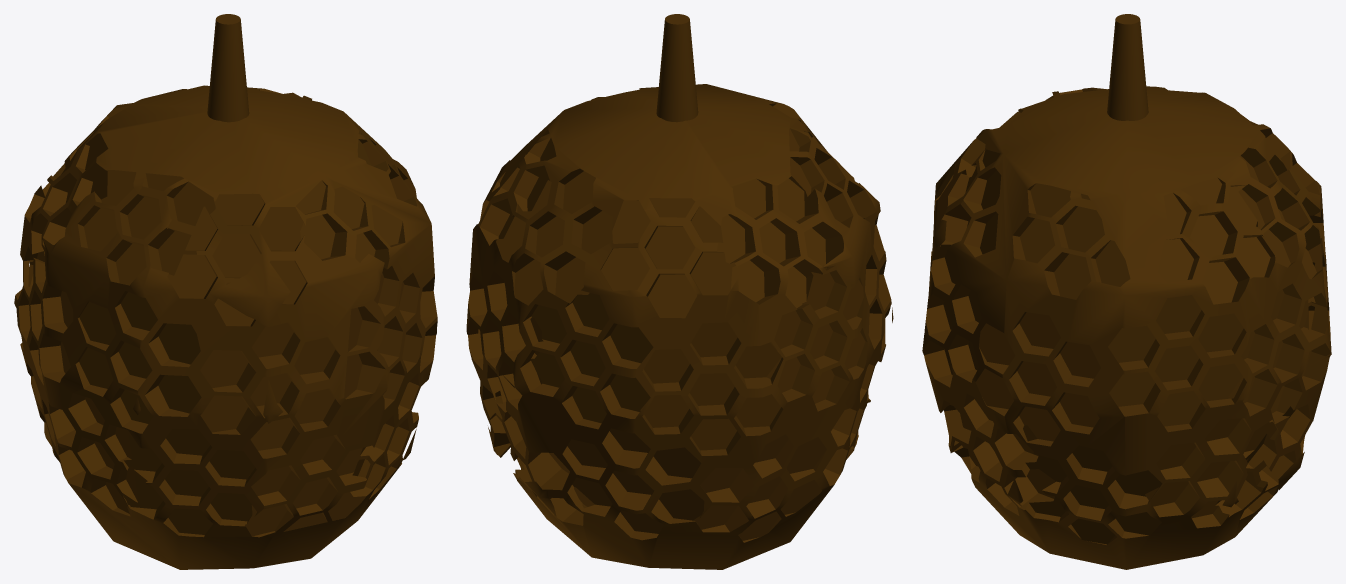
Rendered from BeeHive.FBX.
3 renders of one model, left to right at view 1: azimuth 30°, elevation 25°; view 2: azimuth 150°, elevation 25°; view 3: azimuth 270°, elevation 25°, orthographic.
Visible parts, largest first — view 1: GeoSphere001, Cone001; view 2: GeoSphere001, Cone001; view 3: GeoSphere001, Cone001.
Boxes of the visible parts, x1,y1,x2,y2 form: GeoSphere001: [14, 85, 437, 569]; Cone001: [207, 14, 249, 122]; GeoSphere001: [466, 84, 893, 569]; Cone001: [656, 14, 698, 122]; GeoSphere001: [922, 86, 1331, 569]; Cone001: [1107, 14, 1148, 120].
Size of the model in its own units: 28.02 by 39.18 by 26.98.
